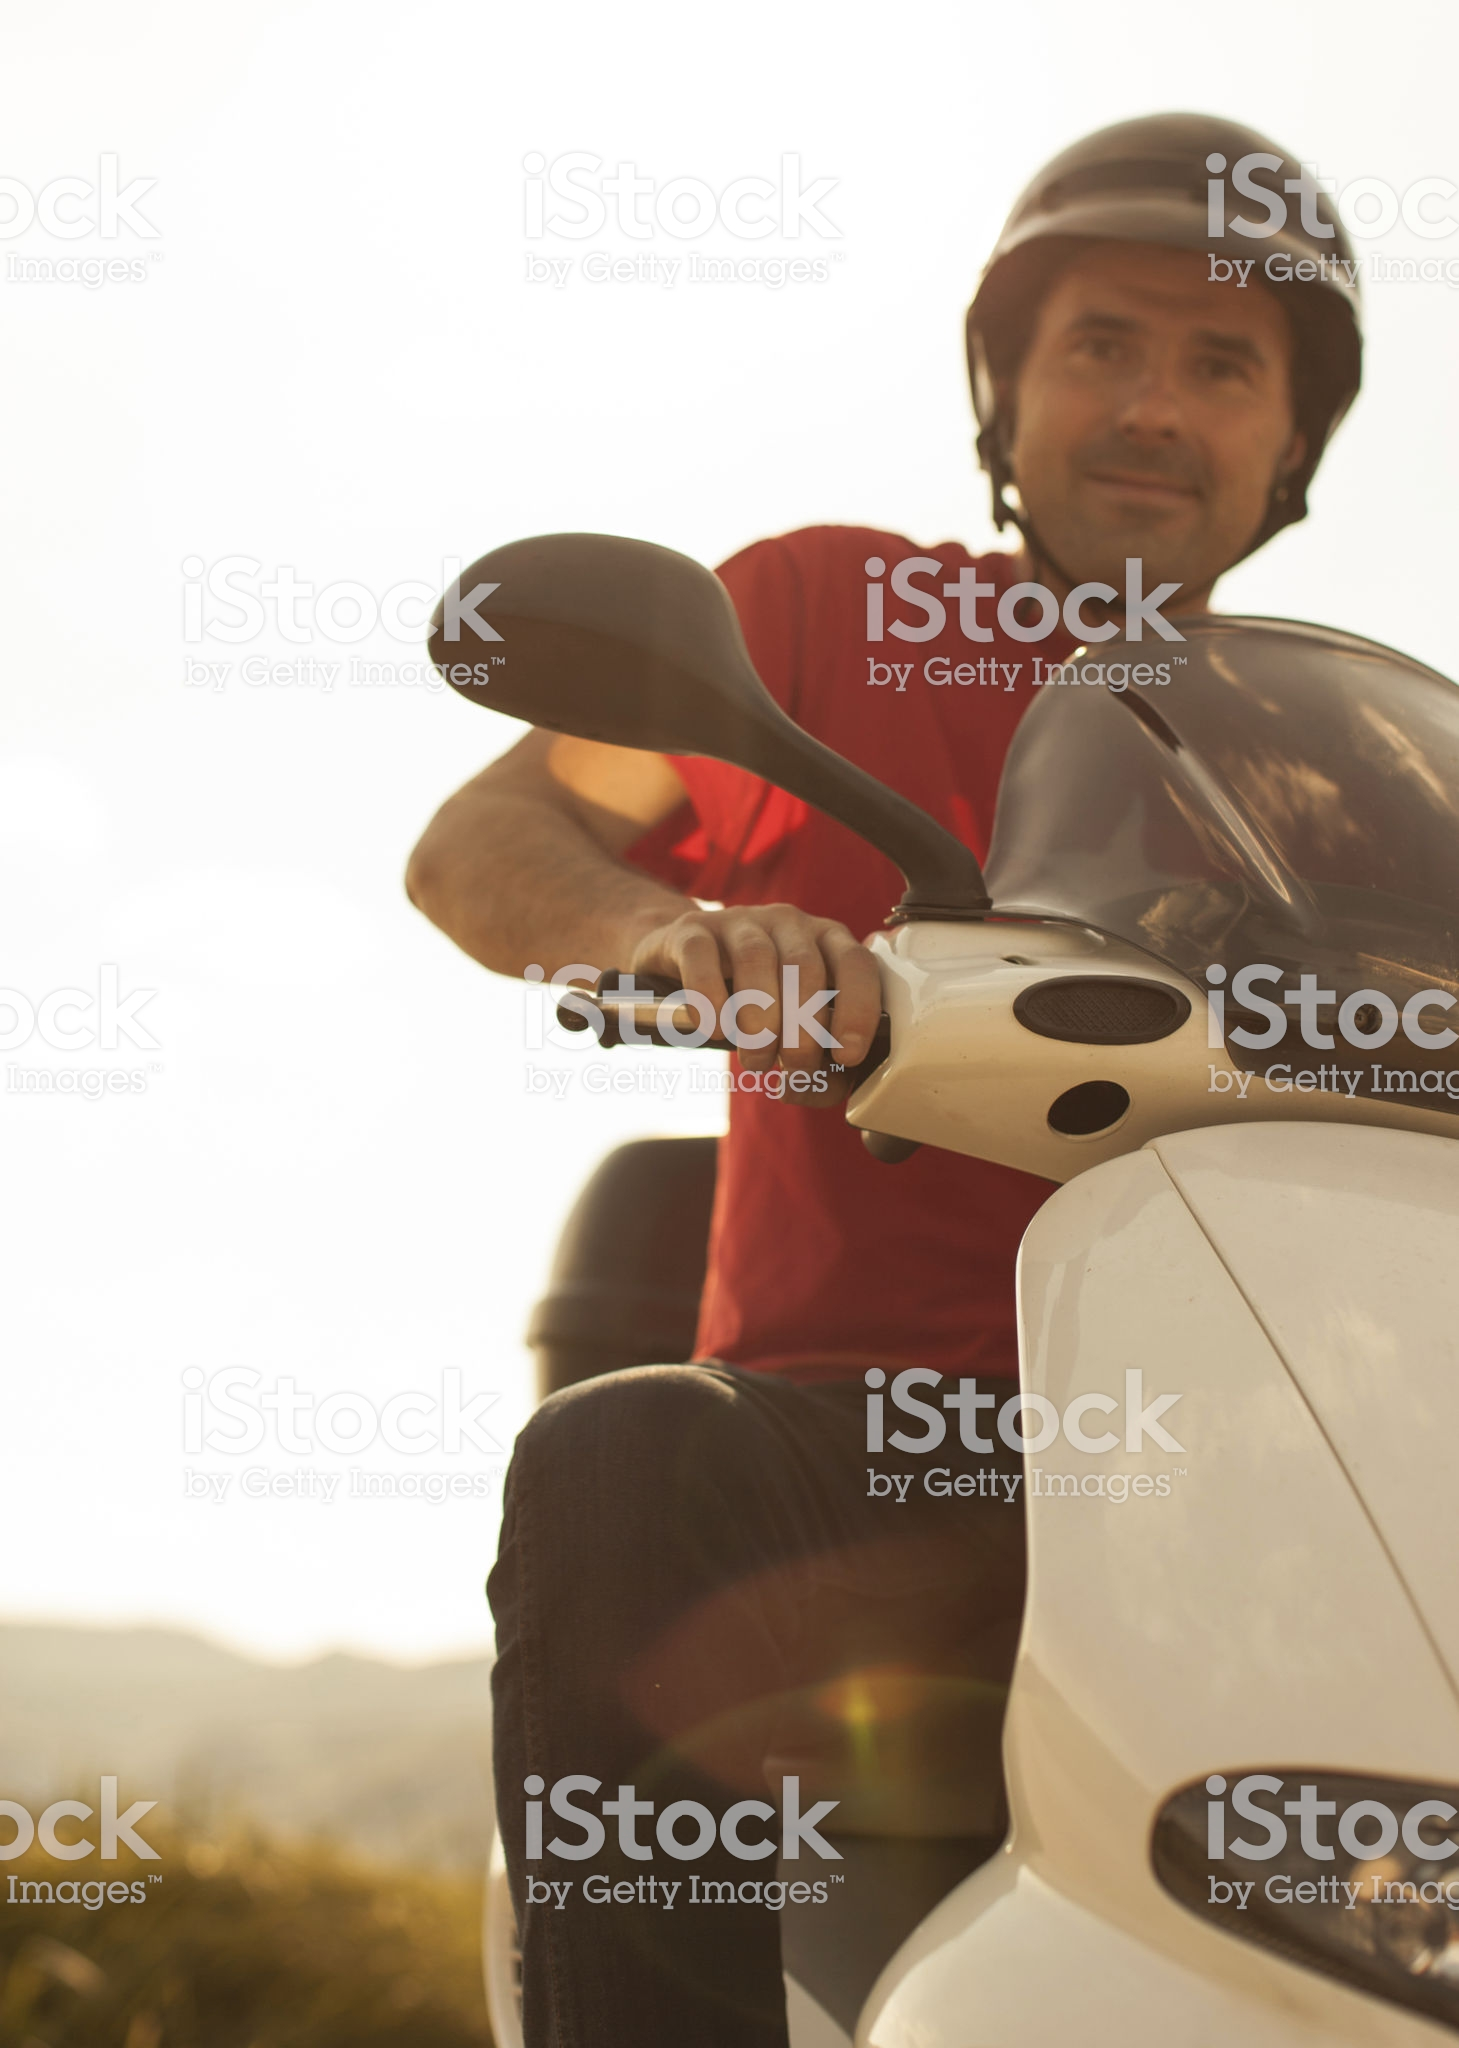helmet: (940, 115, 1364, 373)
